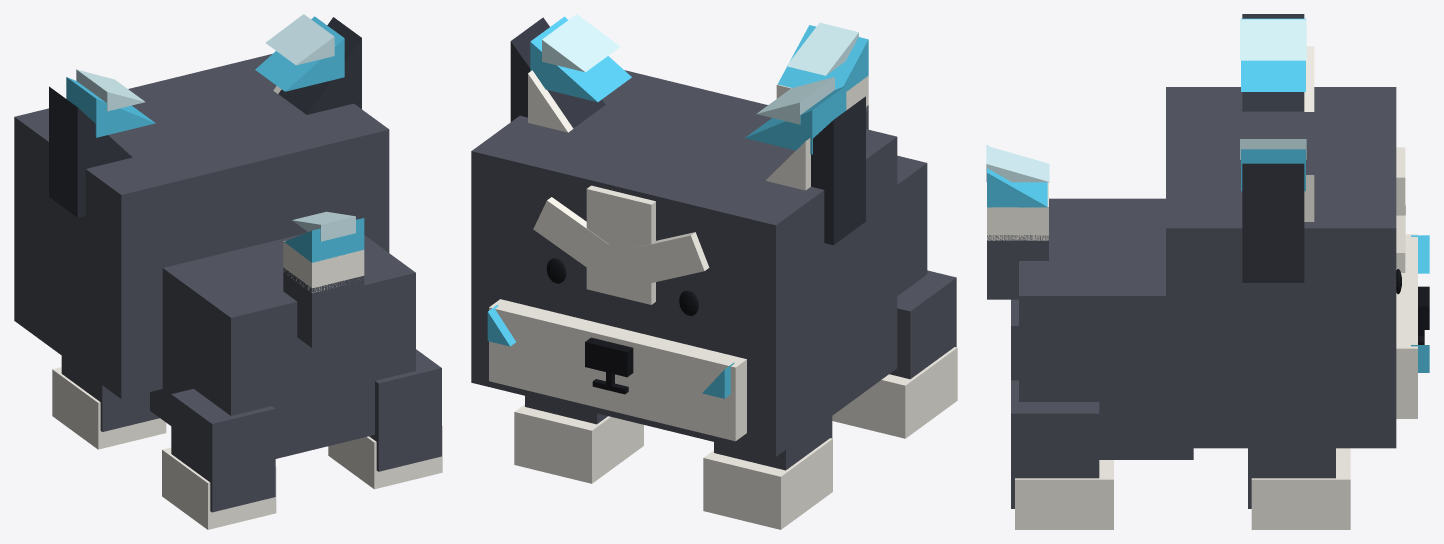
File: Husky_Block.obj
3 renders of one model, left to right at view 1: azimuth 30°, elevation 25°; view 2: azimuth 150°, elevation 25°; view 3: azimuth 270°, elevation 25°, orthographic. The views are drawn at different scales.
Parts seen in each view (by area): view 1: BigHead, ShortTorso, LegBL_Leg, LegBR_Leg, EarL, TailRoot, LegBL_Paw, LegFL_Paw, EarR, LegBR_Paw, EarIceCapR, LegFL_Leg (+6 smaller); view 2: BigHead, WhiteMuzzle, LegFL_Paw, LegFR_Paw, MaskBlaze, EarL, LegBL_Paw, LegBL_Leg, ShortTorso, EarIceCapR, EarR, EarIceGlintR (+13 smaller); view 3: BigHead, ShortTorso, EarR, LegBR_Leg, LegFR_Paw, LegBR_Paw, WhiteMuzzle, LegFR_Leg, EarIceGlintL, TailRoot, EarIceCapL, TailWhiteBand (+9 smaller).
Boxes of the visible parts, box(x1,y1,x2,y2) form: BigHead: box(14, 54, 389, 398); ShortTorso: box(150, 233, 415, 458); LegBL_Leg: box(171, 389, 275, 512); LegBR_Leg: box(369, 349, 441, 471); EarL: box(49, 86, 132, 217); TailRoot: box(283, 267, 364, 347); LegBL_Paw: box(162, 447, 276, 529); LegFL_Paw: box(52, 367, 166, 449); EarR: box(278, 17, 361, 114); LegBR_Paw: box(328, 426, 442, 489); EarIceCapR: box(255, 16, 344, 91); LegFL_Leg: box(61, 356, 159, 431); BigHead: box(471, 70, 897, 456); WhiteMuzzle: box(489, 299, 746, 441); LegFL_Paw: box(703, 438, 832, 529); LegFR_Paw: box(514, 404, 643, 483); MaskBlaze: box(586, 185, 655, 304); EarL: box(811, 96, 865, 245); LegBL_Paw: box(832, 347, 957, 438); LegBL_Leg: box(889, 270, 956, 379); ShortTorso: box(897, 155, 927, 295); EarIceCapR: box(530, 16, 631, 102); EarR: box(510, 17, 605, 128); EarIceGlintR: box(542, 14, 620, 72); BigHead: box(1166, 87, 1396, 448); ShortTorso: box(1019, 198, 1193, 459); EarR: box(1242, 163, 1304, 282); LegBR_Leg: box(1011, 380, 1099, 508); LegFR_Paw: box(1251, 448, 1350, 529); LegBR_Paw: box(1015, 460, 1113, 529); WhiteMuzzle: box(1396, 234, 1417, 418); LegFR_Leg: box(1248, 448, 1335, 508); EarIceGlintL: box(1240, 19, 1306, 60); TailRoot: box(987, 235, 1048, 299); EarIceCapL: box(1241, 18, 1305, 91); TailWhiteBand: box(987, 182, 1048, 240).
Size of the model in its own units: 2.29 by 2.78 by 2.87.
